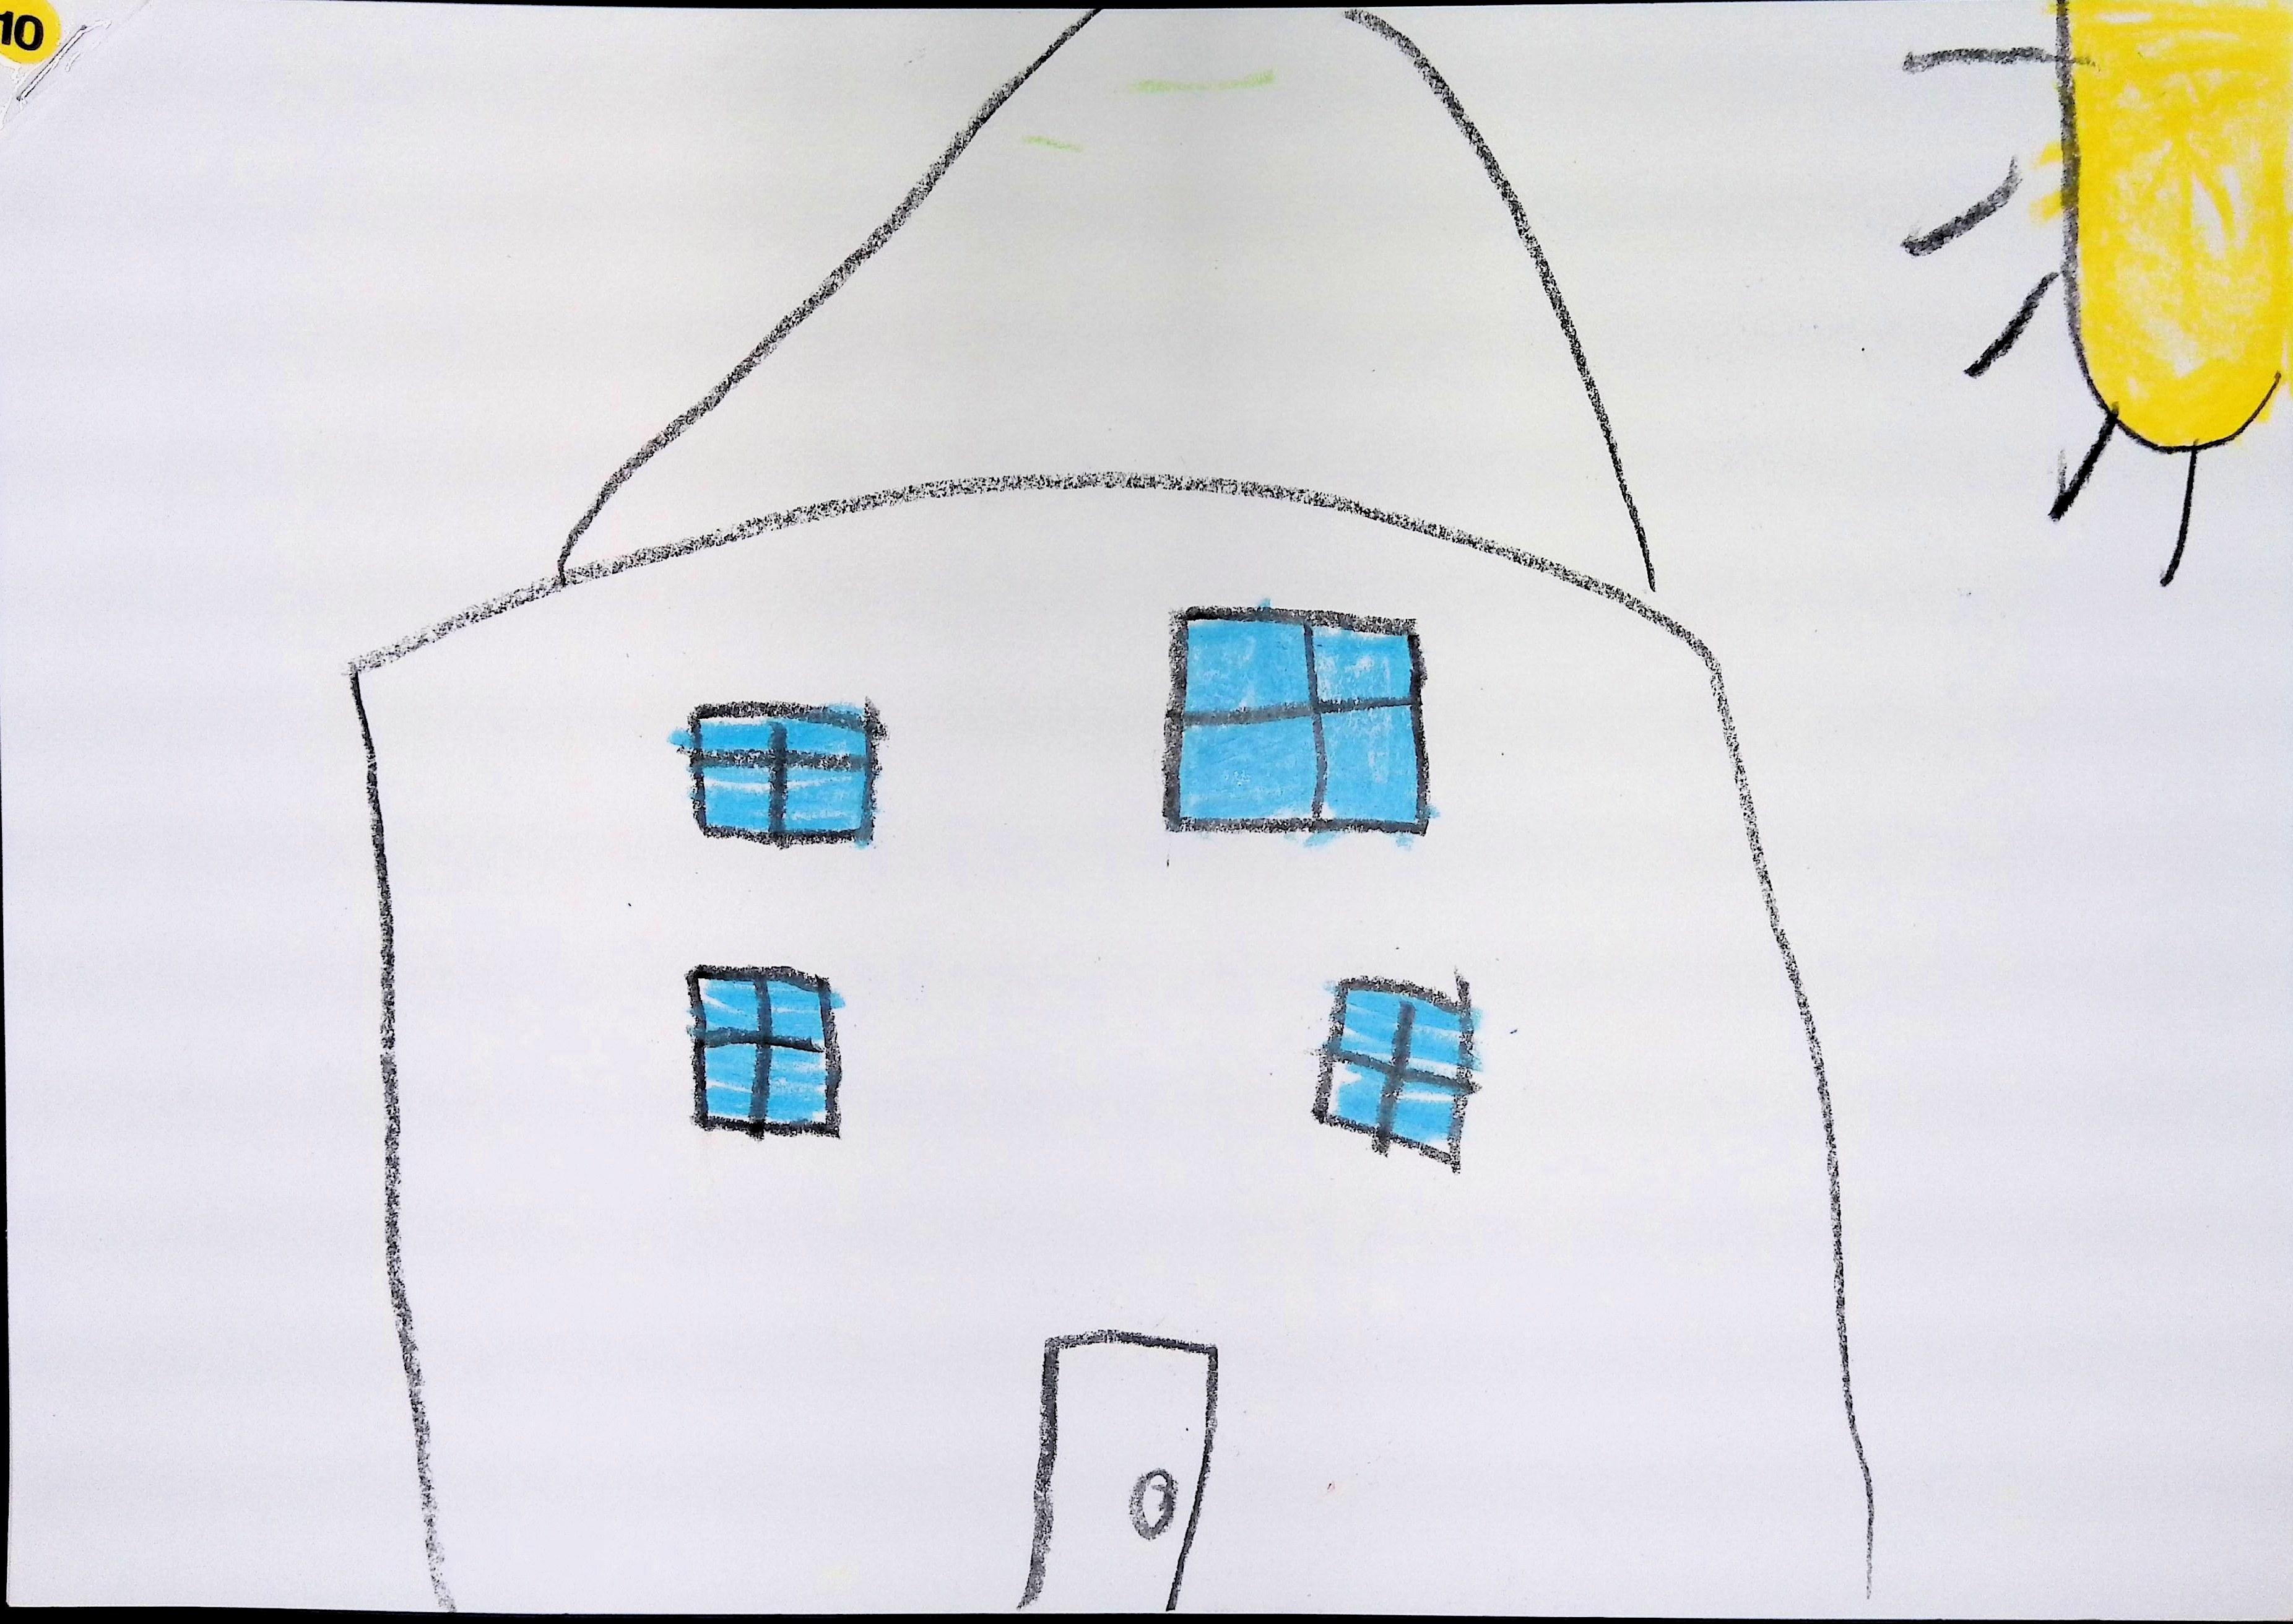door: (1024, 1339, 1209, 1613)
house: (344, 2, 1875, 1624)
roof: (546, 0, 1675, 624)
sun: (1887, 0, 2293, 582)
wall: (346, 473, 1884, 1624)
window: (1165, 606, 1430, 831), (1314, 981, 1478, 1172), (684, 700, 886, 847), (687, 965, 840, 1137)
